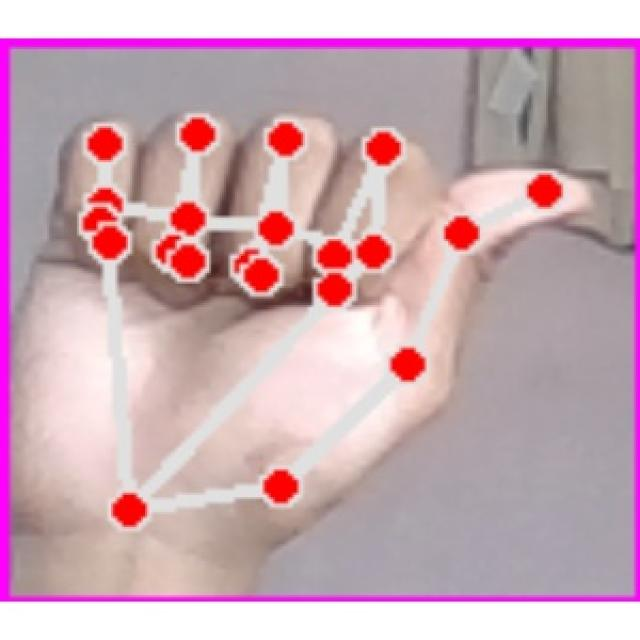A: (33, 60, 588, 562)
